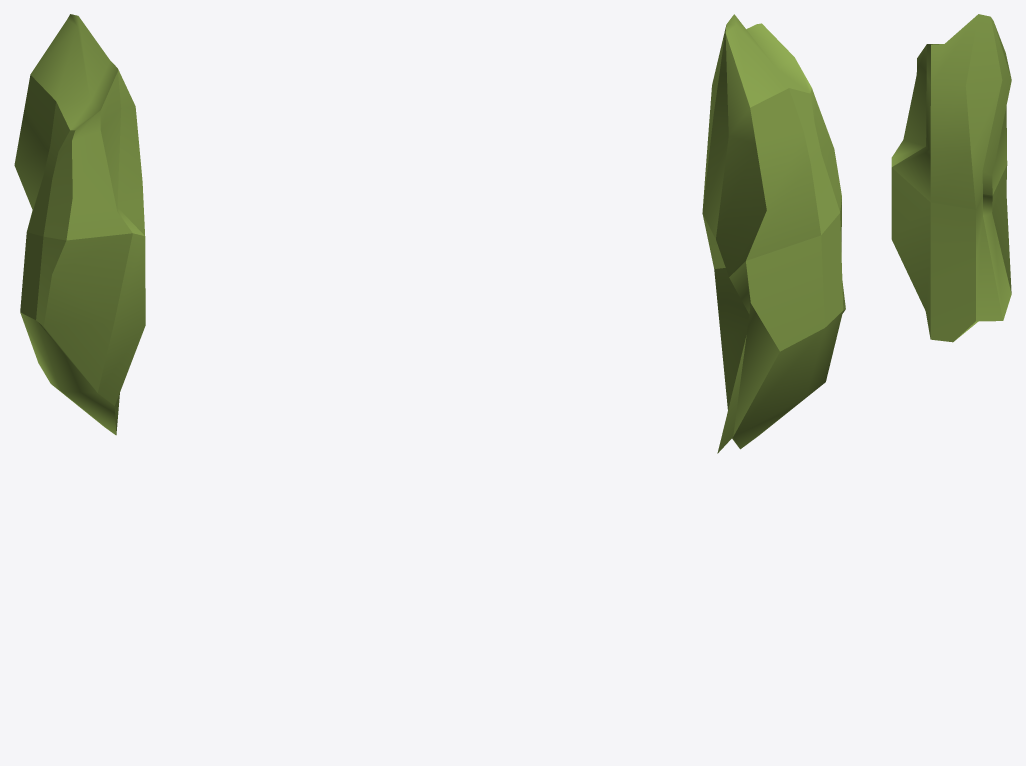
Rendered from CactusShard.fbx.
3 views of the same model, side by side, from view 1: azimuth 30°, elevation 25°; view 2: azimuth 150°, elevation 25°; view 3: azimuth 270°, elevation 25° (orthographic). The views are drawn at different scales.
Parts seen in each view (by area): view 1: CactusShard; view 2: CactusShard; view 3: CactusShard.
Part boxes in pixels (x1,y1,x2,y2): CactusShard: (14, 14, 145, 435); CactusShard: (702, 14, 845, 453); CactusShard: (891, 14, 1011, 342).
Size of the model in its own units: 0.8307 by 1.66 by 0.3333.
